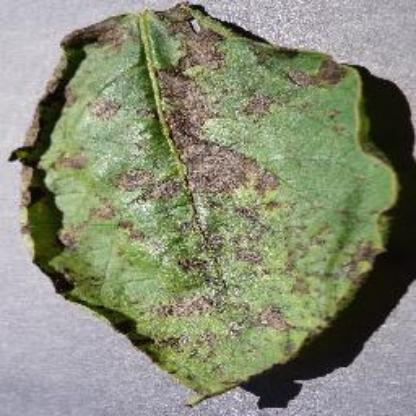Early-Blight: (8, 3, 408, 403)
